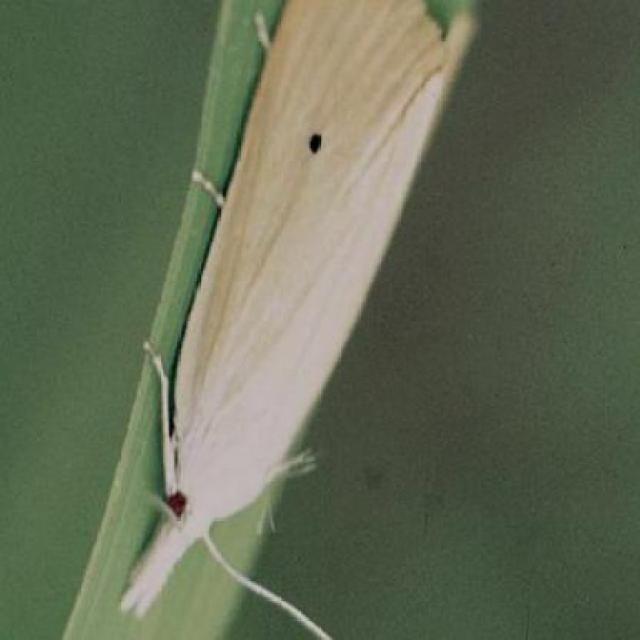stem-borer: (112, 0, 482, 622)
